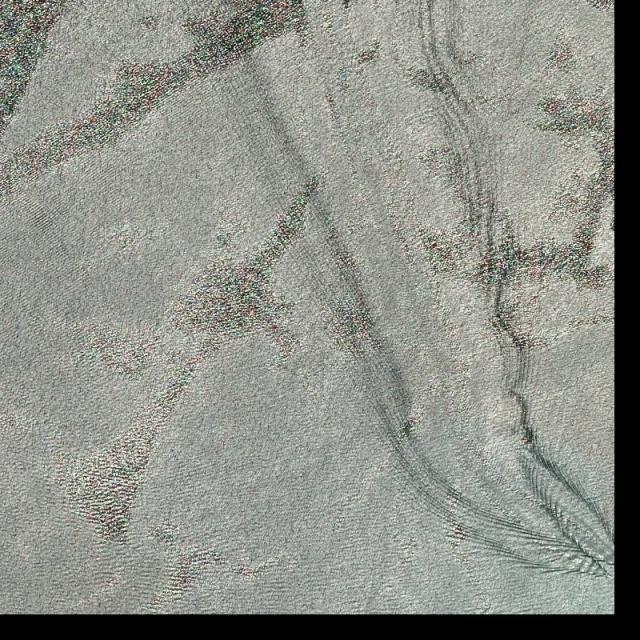ship: (607, 574, 614, 581)
